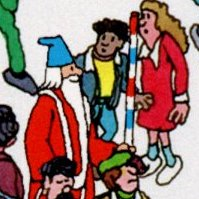wb: (39, 35, 83, 90)
